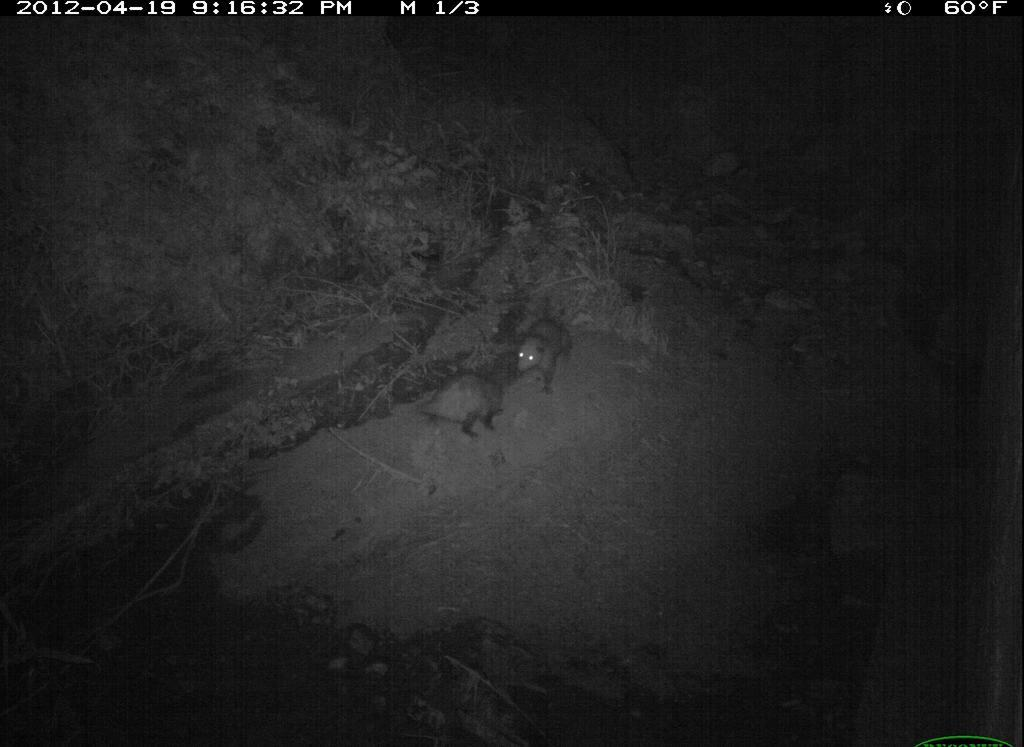opossum: (413, 354, 534, 447), (496, 308, 598, 387)
